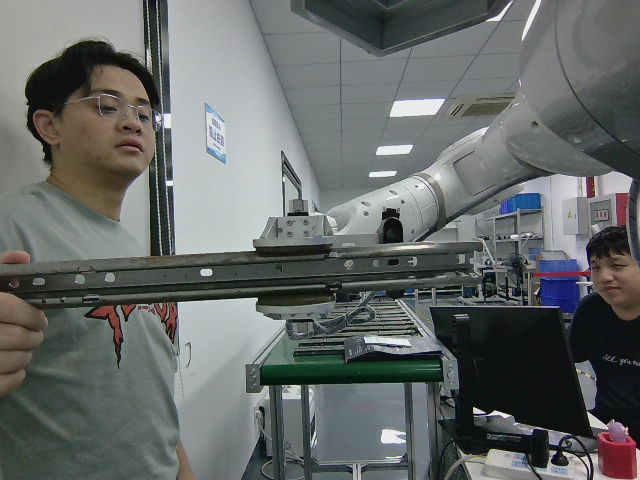left: (36, 239, 486, 309)
